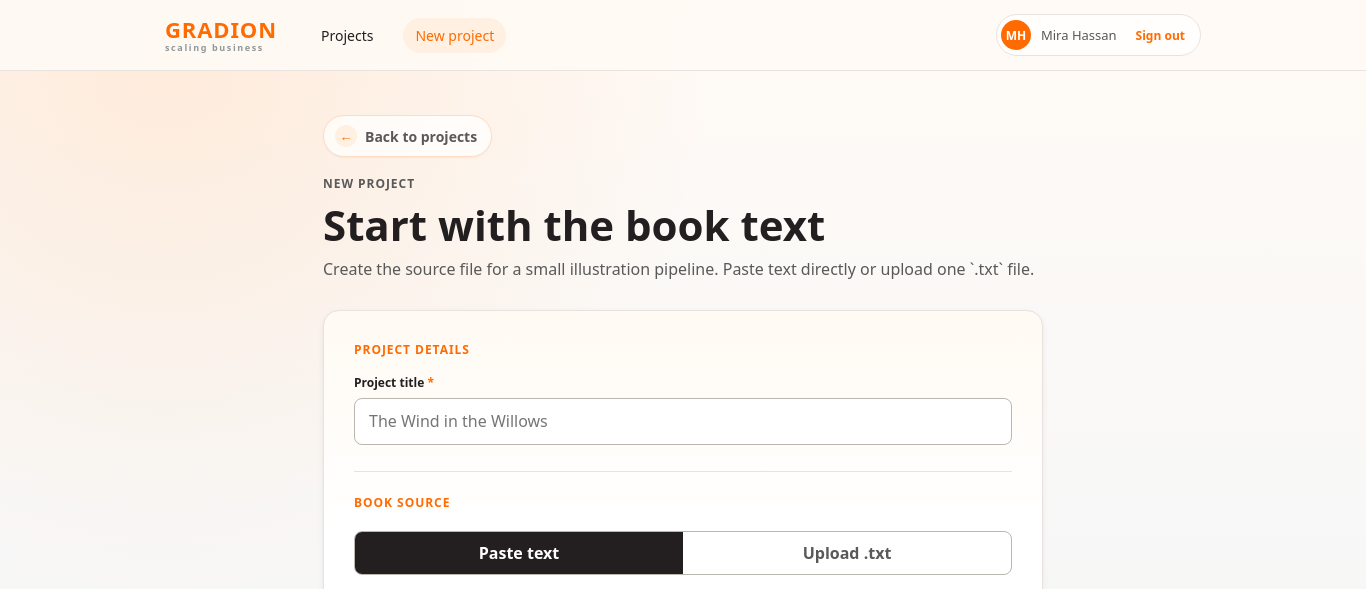
frontend flow › creates a project from pasted text and opens the detail view
This screenshot has width=1366, height=589.
Expected: the heading "Start with the book text" is shown, x1=323 y1=196 x2=825 y2=253
Type "Created Book" into the field with placeholder "The Wind in the Willows". click: coordinates (683, 421)
box: x1=354 y1=398 x2=1012 y2=445
(page scrolled)
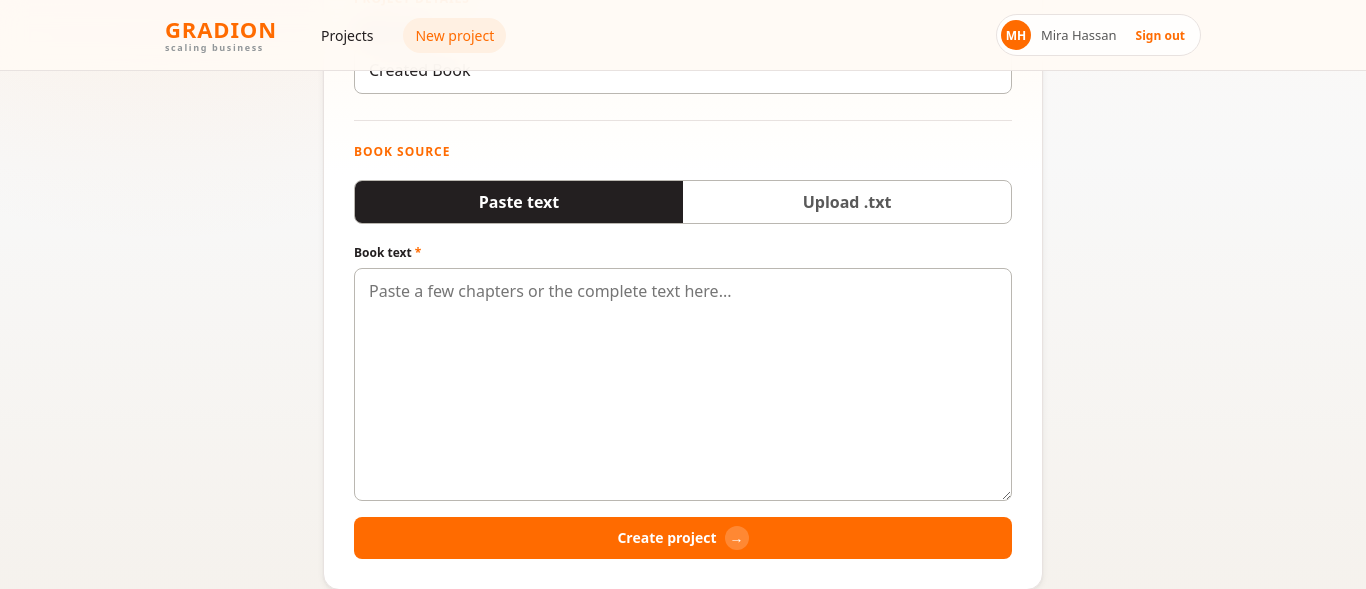
Type "A short public-domain excerpt." into the text box with placeholder "Paste a few chapters or the complete text here...". click: coordinates (683, 384)
box: x1=354 y1=268 x2=1012 y2=501
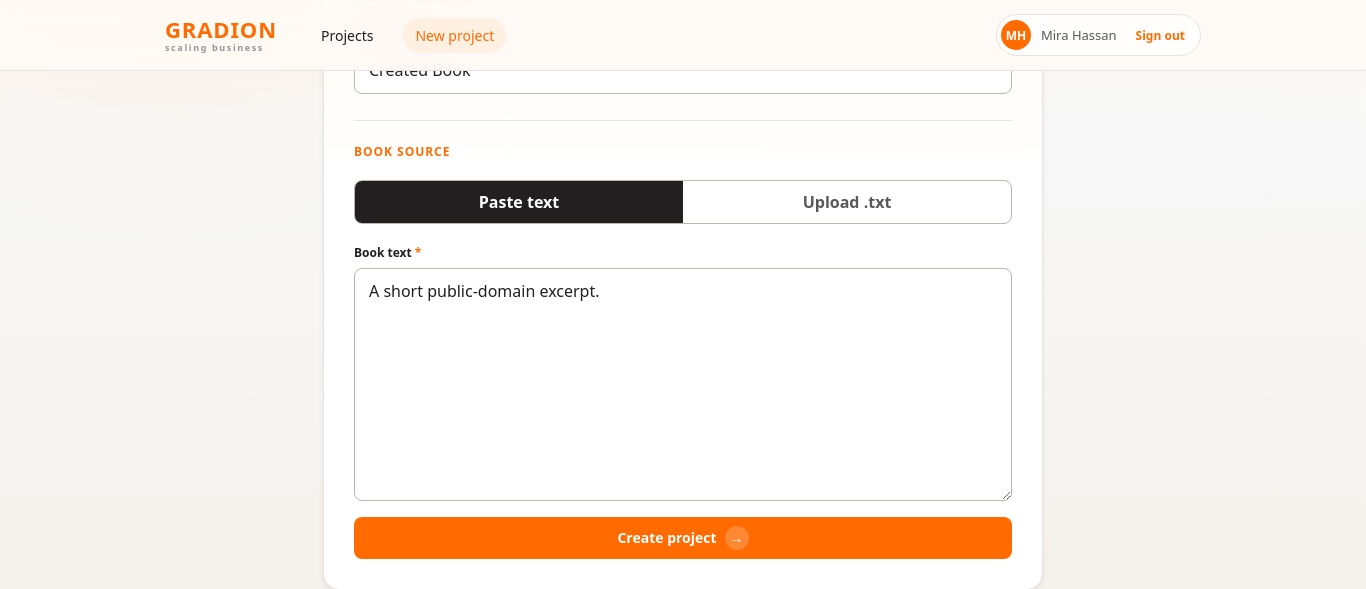
Click the button "Create project →". click: coordinates (683, 538)
box: x1=354 y1=517 x2=1012 y2=559
(page scrolled)
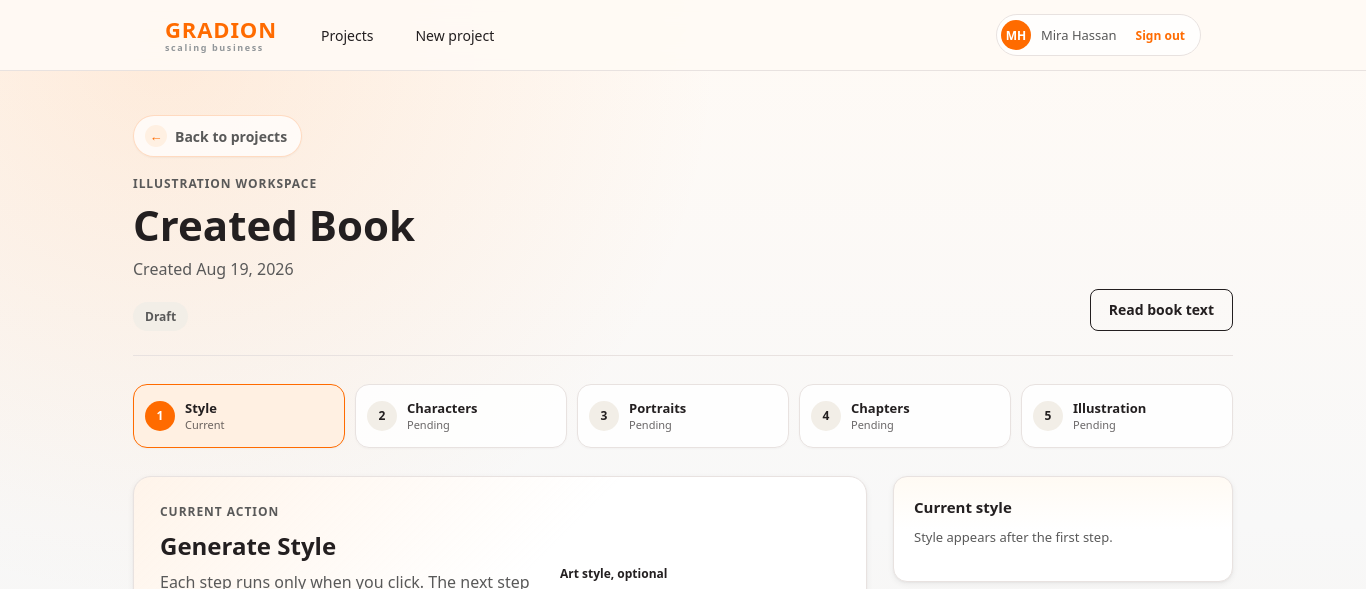
Result: the heading "Created Book" is shown at x1=133 y1=202 x2=415 y2=247
